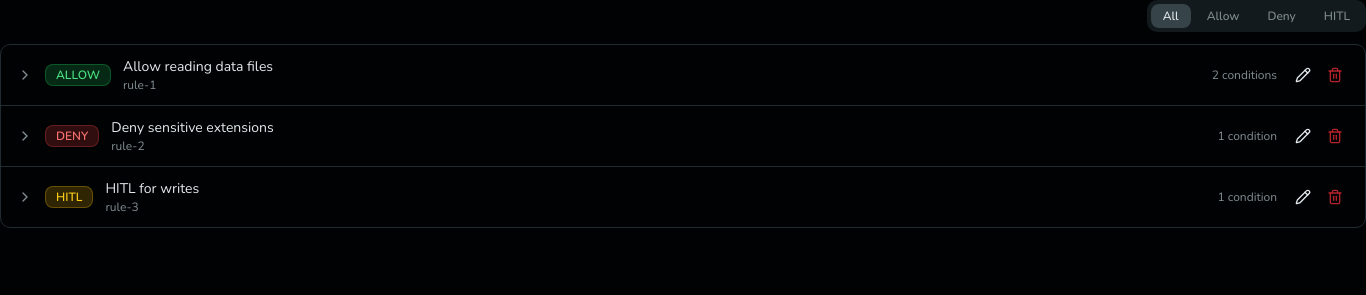
Test: PolicyRulesList › expansion › formats array values as comma-separated
Click the button "Deny sensitive extensions" at (72, 136), box x1=1 y1=106 x2=1365 y2=166
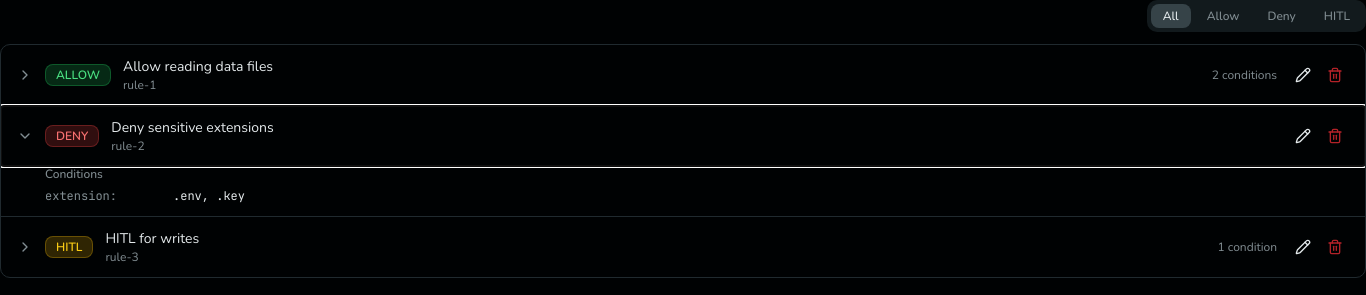
Now the text ".env, .key" is shown, box x1=173 y1=188 x2=245 y2=204
